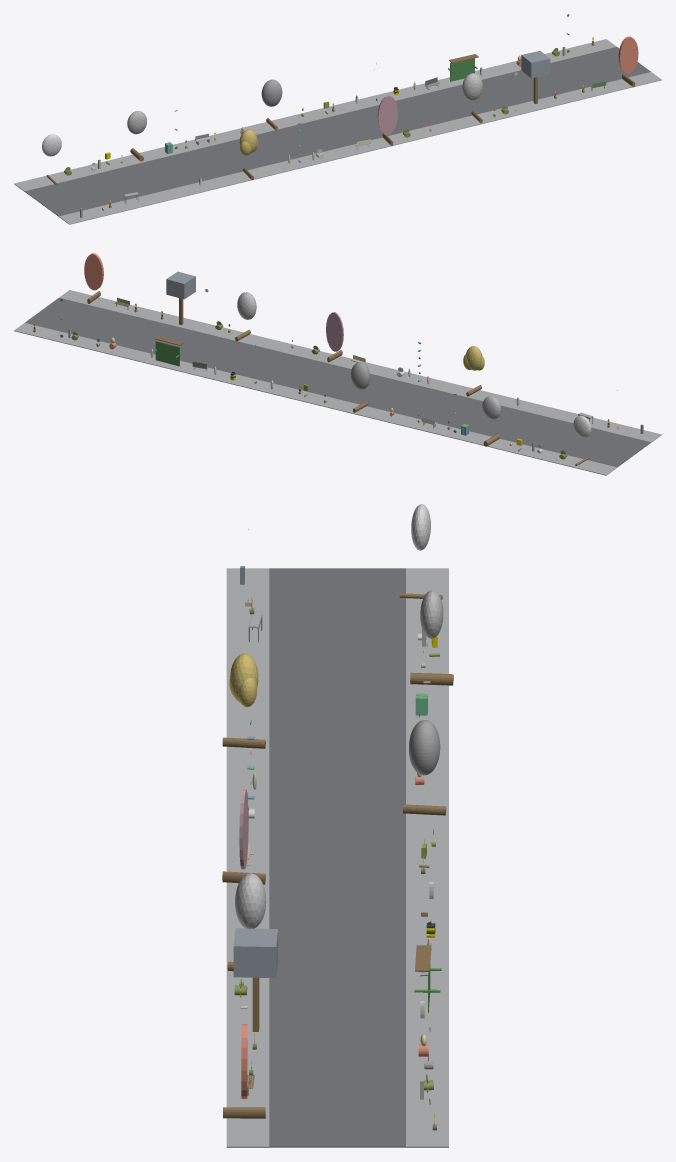
3 renders of one model, top to bottom at view 1: azimuth 30°, elevation 25°; view 2: azimuth 150°, elevation 25°; view 3: azimuth 270°, elevation 25°, orthographic. The views are drawn at different scales.
Parts seen in each view (by area): view 1: road_slab, sidewalk_left, sidewalk_right, inst_0024, inst_0022, inst_0025, inst_0026, inst_0023, inst_0021, inst_0019, inst_0020, inst_0018; view 2: road_slab, sidewalk_right, sidewalk_left, inst_0024, inst_0025, inst_0022, inst_0026, inst_0023, inst_0021, inst_0020, inst_0019, inst_0018; view 3: road_slab, sidewalk_right, sidewalk_left, inst_0024, inst_0021, inst_0020, inst_0023, inst_0019, inst_0025, inst_0022.
Boxes of the visible parts, x1,y1,x2,y2 form: road_slab: [24, 47, 650, 216]; sidewalk_left: [59, 72, 661, 224]; sidewalk_right: [14, 39, 616, 191]; inst_0024: [521, 50, 550, 103]; inst_0022: [377, 95, 397, 146]; inst_0025: [618, 36, 638, 87]; inst_0026: [448, 54, 478, 81]; inst_0023: [462, 73, 482, 123]; inst_0021: [261, 79, 282, 130]; inst_0019: [127, 111, 146, 161]; inst_0020: [239, 129, 258, 180]; inst_0018: [42, 134, 61, 184]; road_slab: [25, 298, 651, 467]; sidewalk_right: [14, 323, 616, 475]; sidewalk_left: [59, 290, 661, 442]; inst_0024: [166, 271, 195, 324]; inst_0025: [84, 253, 103, 303]; inst_0022: [326, 312, 343, 362]; inst_0026: [153, 336, 183, 366]; inst_0023: [235, 292, 256, 341]; inst_0021: [351, 362, 370, 412]; inst_0020: [463, 346, 484, 396]; inst_0019: [482, 396, 500, 446]; inst_0018: [573, 415, 591, 465]; road_slab: [269, 568, 405, 1147]; sidewalk_right: [406, 568, 448, 1147]; sidewalk_left: [226, 568, 269, 1147]; inst_0024: [233, 928, 277, 1031]; inst_0021: [403, 720, 446, 815]; inst_0020: [222, 653, 265, 748]; inst_0023: [227, 873, 266, 971]; inst_0019: [410, 590, 453, 685]; inst_0025: [223, 1024, 265, 1118]; inst_0022: [222, 789, 265, 884].
Bounding box in the file's own units: 80 × 6.08 × 13.52.
